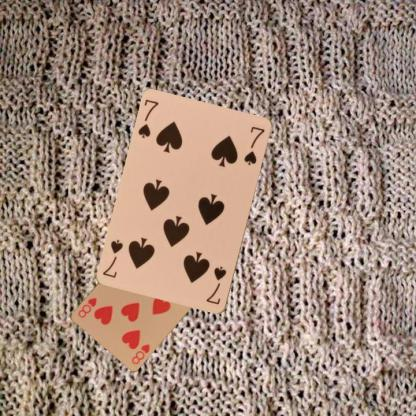7s: (135, 96, 160, 140), (204, 264, 228, 306)
8h: (129, 341, 151, 365)
